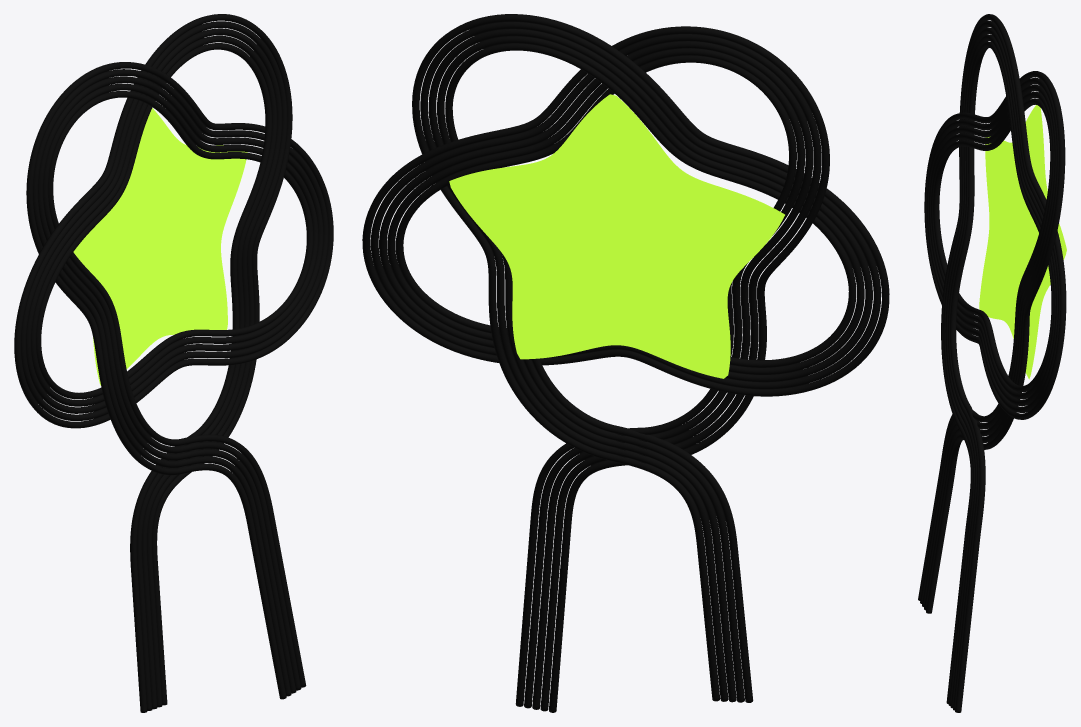
The picture shows the model from 3 angles, left to right: view 1: azimuth 30°, elevation 25°; view 2: azimuth 150°, elevation 25°; view 3: azimuth 270°, elevation 25°; orthographic projection. The views are drawn at different scales.
Parts seen in each view (by area): view 1: mizuhiki, tama; view 2: mizuhiki, tama; view 3: mizuhiki, tama.
Part boxes in pixels (x1,y1,x2,y2): mizuhiki: [14, 14, 333, 712]; tama: [73, 108, 247, 385]; mizuhiki: [362, 14, 889, 712]; tama: [449, 94, 784, 378]; mizuhiki: [918, 14, 1066, 712]; tama: [979, 105, 1066, 379].
Size of the model in its own units: 1.37 by 2.2 by 0.4874.
